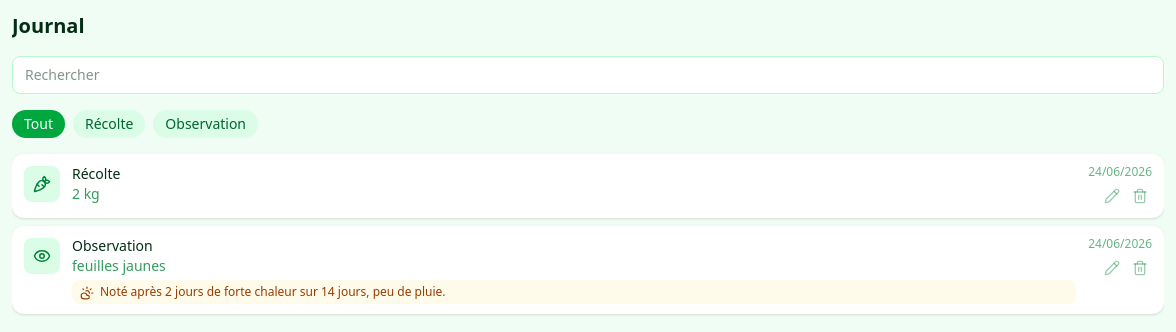
Test: JournalPage › la recherche restreint la liste affichée
Expected: the text "feuilles jaunes" is shown, [72, 256, 166, 275]
Type "jaunes" into the search field with placeholder "Rechercher" at (588, 75), box [12, 56, 1164, 94]
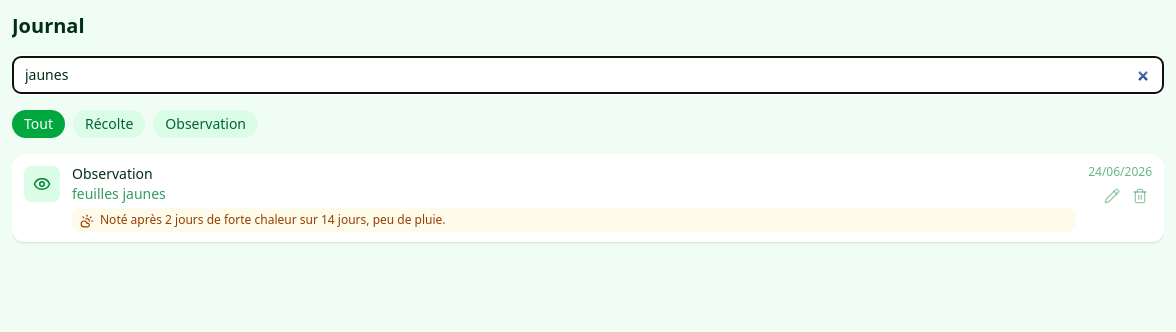
Expected: the text "feuilles jaunes" is shown, [72, 184, 166, 203]
Expected: the text "2 kg" is gone
